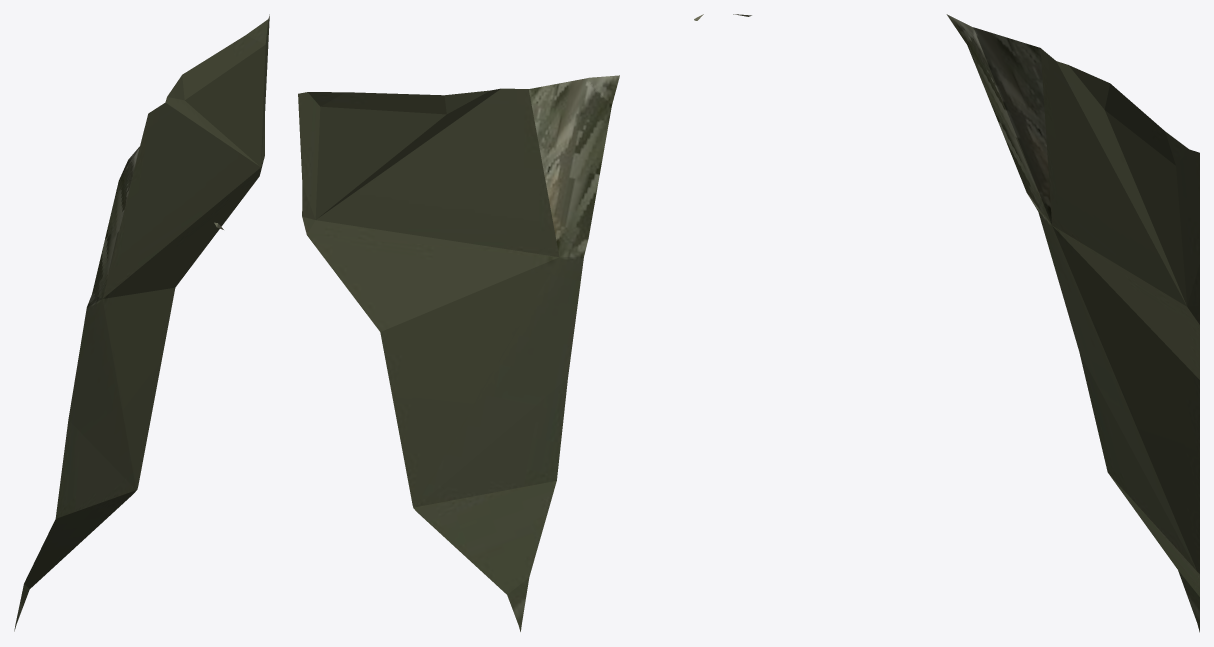
3 renders of one model, left to right at view 1: azimuth 30°, elevation 25°; view 2: azimuth 150°, elevation 25°; view 3: azimuth 270°, elevation 25°, orthographic. The views are drawn at different scales.
Bounding box in the file's own units: 1.41 × 2.93 × 2.01.
Materials: 1 (1 with a texture image).
